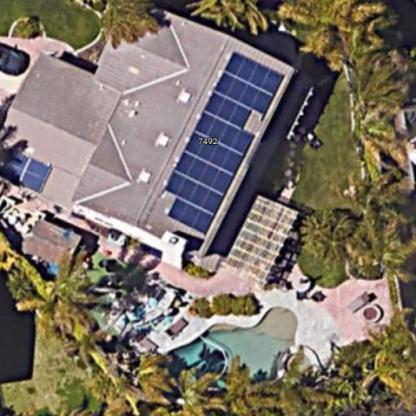pool: (150, 302, 309, 392)
